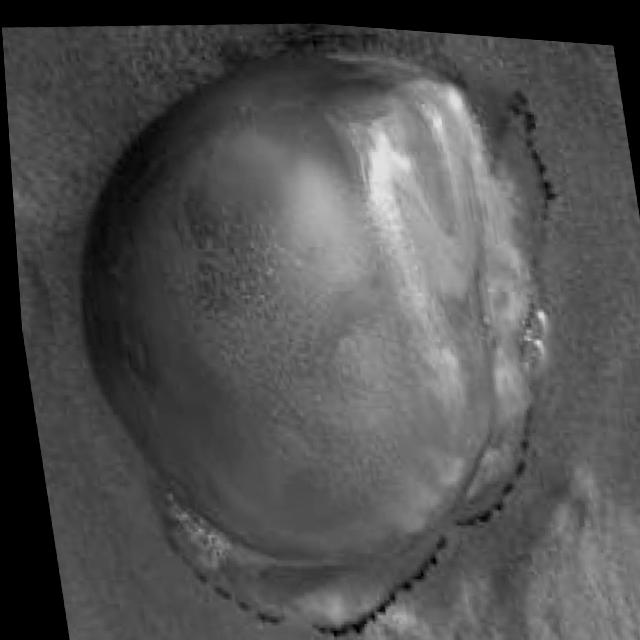Jellyfish: (33, 3, 619, 640)
